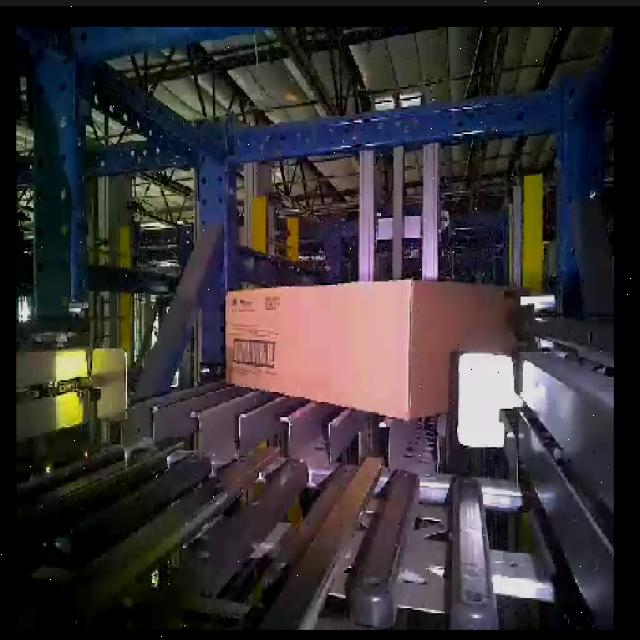box: (225, 279, 413, 420)
